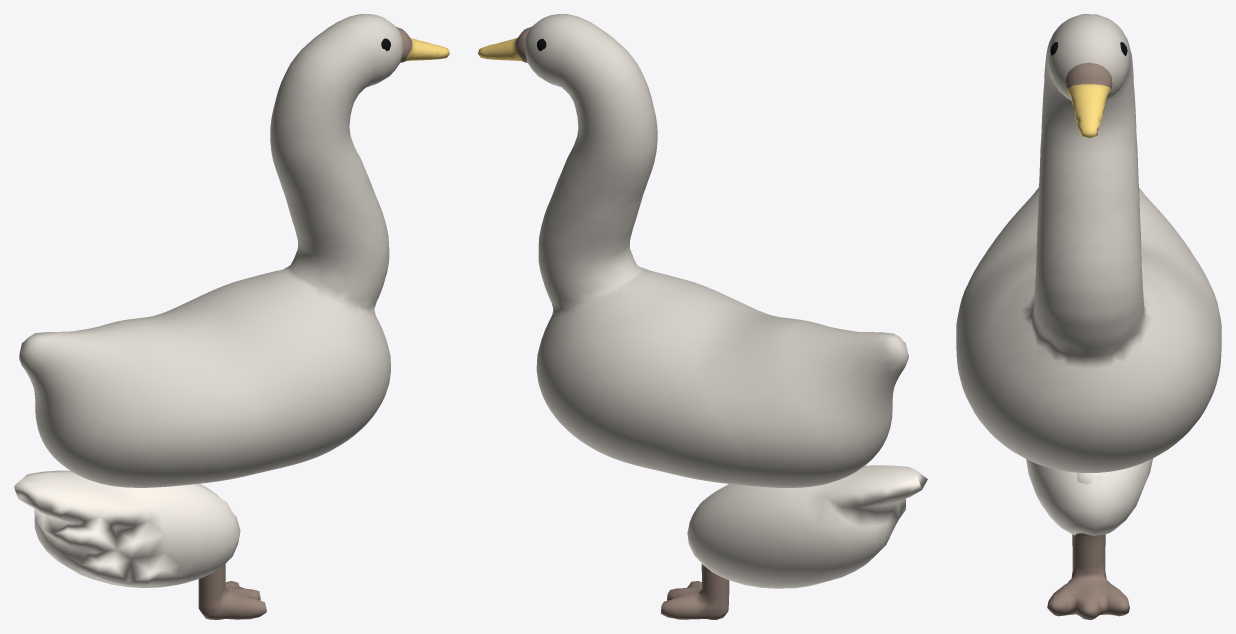
File: swan_adult.glb
3 views of the same model, side by side, from view 1: azimuth 30°, elevation 25°; view 2: azimuth 150°, elevation 25°; view 3: azimuth 270°, elevation 25° (orthographic). The views are drawn at different scales.
Visible parts, largest first — view 1: body, wing, leg, beak; view 2: body, wing, leg, beak; view 3: body, wing, leg, beak.
Part boxes in pixels (left/top/right/bottom): body: left=19, top=14, right=402, bottom=487; wing: left=14, top=470, right=240, bottom=587; leg: left=198, top=498, right=266, bottom=619; beak: left=396, top=27, right=449, bottom=62; body: left=525, top=14, right=908, bottom=487; wing: left=687, top=465, right=927, bottom=588; leg: left=660, top=500, right=729, bottom=619; beak: left=478, top=27, right=531, bottom=62; body: left=956, top=14, right=1221, bottom=472; wing: left=1026, top=458, right=1152, bottom=535; leg: left=1047, top=472, right=1129, bottom=619; beak: left=1065, top=62, right=1112, bottom=138.
Size of the model in its own units: 2.32 by 2.87 by 1.04.
